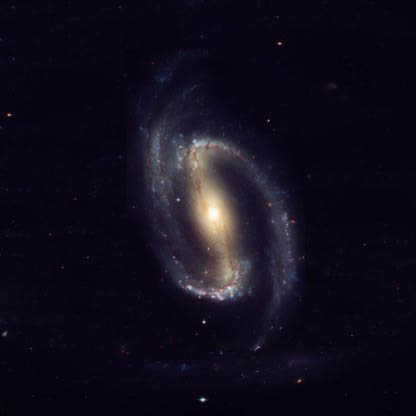NGC 1300: (135, 52, 302, 352)
